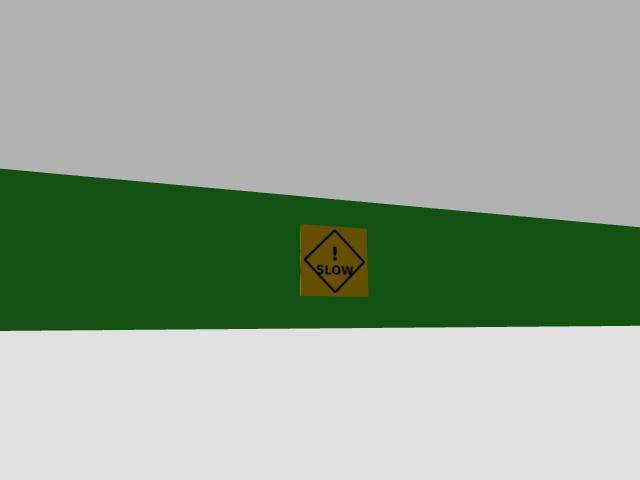slow: (300, 225, 367, 296)
